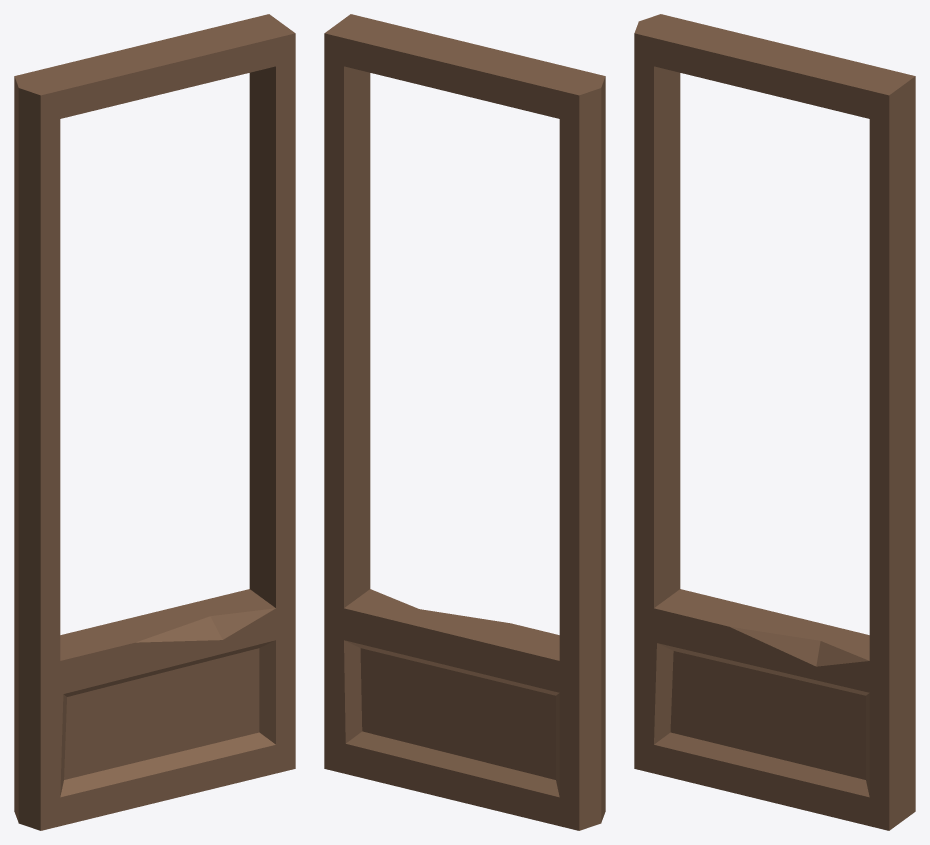
Rendered from SM_Bld_Village_Window_Fold_L_01.glb.
The picture shows the model from 3 angles, left to right: view 1: azimuth 30°, elevation 25°; view 2: azimuth 150°, elevation 25°; view 3: azimuth 330°, elevation 25°; orthographic projection.
Parts seen in each view (by area): view 1: SM_Bld_Village_Window_Fold_L_01; view 2: SM_Bld_Village_Window_Fold_L_01; view 3: SM_Bld_Village_Window_Fold_L_01.
Part boxes in pixels (x1=…): SM_Bld_Village_Window_Fold_L_01: x1=14, y1=14, x2=295, y2=830; SM_Bld_Village_Window_Fold_L_01: x1=324, y1=14, x2=605, y2=830; SM_Bld_Village_Window_Fold_L_01: x1=634, y1=14, x2=915, y2=830.
Size of the model in its own units: 0.5101 by 1.36 by 0.0884.
1 material, 1 textured.
